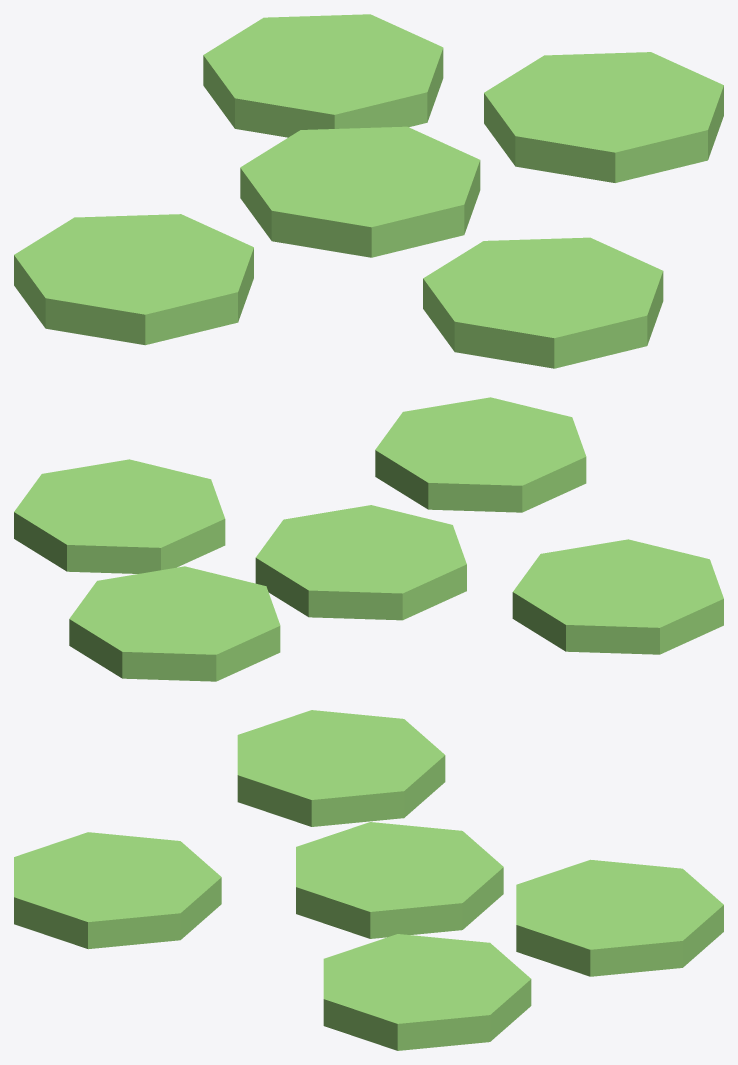
Rendered from Pickles.fbx.
3 views of the same model, one above another, from view 1: azimuth 30°, elevation 25°; view 2: azimuth 150°, elevation 25°; view 3: azimuth 270°, elevation 25° (orthographic). The views are drawn at different scales.
Parts seen in each view (by area): view 1: Pickles; view 2: Pickles; view 3: Pickles.
Part boxes in pixels (left/top/right/bottom): Pickles: left=14, top=14, right=723, bottom=368; Pickles: left=14, top=397, right=723, bottom=681; Pickles: left=14, top=710, right=723, bottom=1050.
Bounding box in the file's own units: 224 × 9 × 214.
